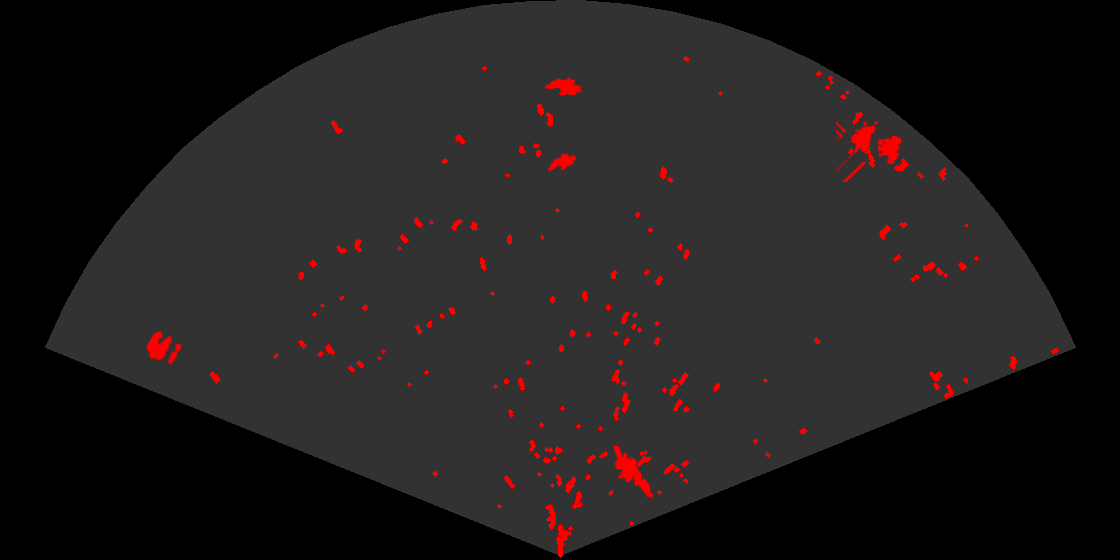AUV: (543, 76, 584, 97), (546, 152, 578, 173)
ball: (144, 329, 183, 366)
cage: (836, 119, 903, 182)
frogman: (612, 446, 655, 500)
